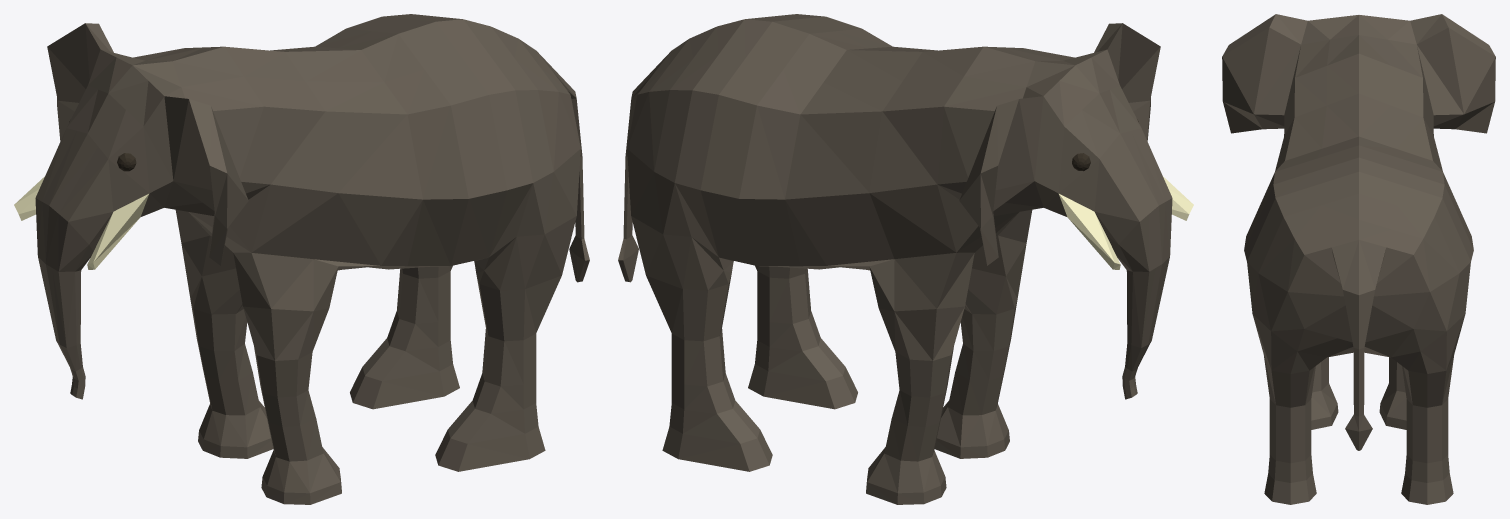
The model's file is elephant.glb.
3 views of the same model, side by side, from view 1: azimuth 30°, elevation 25°; view 2: azimuth 150°, elevation 25°; view 3: azimuth 270°, elevation 25° (orthographic). The views are drawn at different scales.
Parts seen in each view (by area): view 1: Elephant_geo; view 2: Elephant_geo; view 3: Elephant_geo.
Boxes of the visible parts, <box> form: Elephant_geo: <box>14,14,589,504</box>; Elephant_geo: <box>618,14,1193,504</box>; Elephant_geo: <box>1222,14,1495,504</box>.
Bounding box in the file's own units: 3.2 × 2.48 × 1.76.
Materials: 2 (2 with a texture image).
